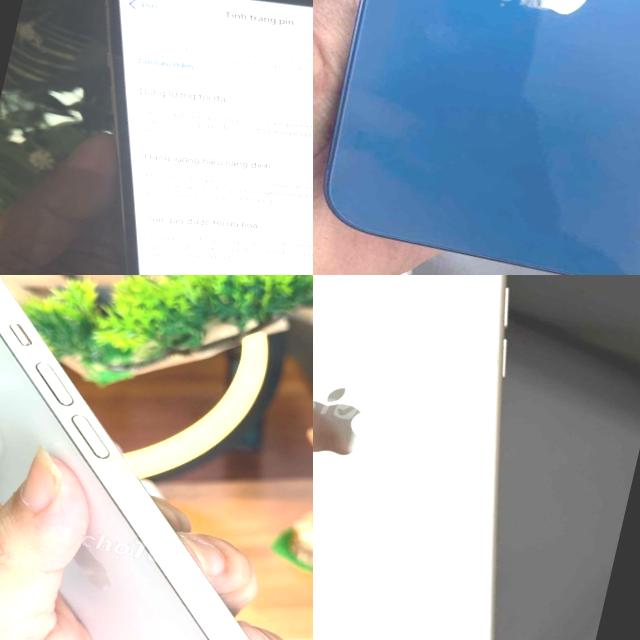gen_12_13: (313, 0, 640, 275), (17, 0, 313, 275)
gen_14: (0, 275, 313, 640)
gen_7_8: (313, 275, 613, 640)
